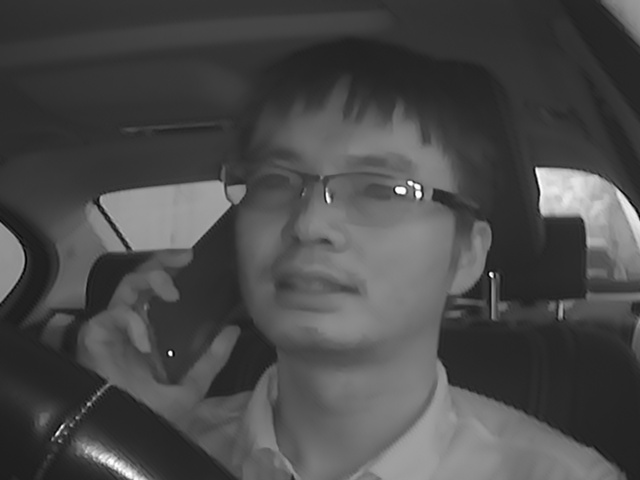hand: (89, 245, 212, 423)
